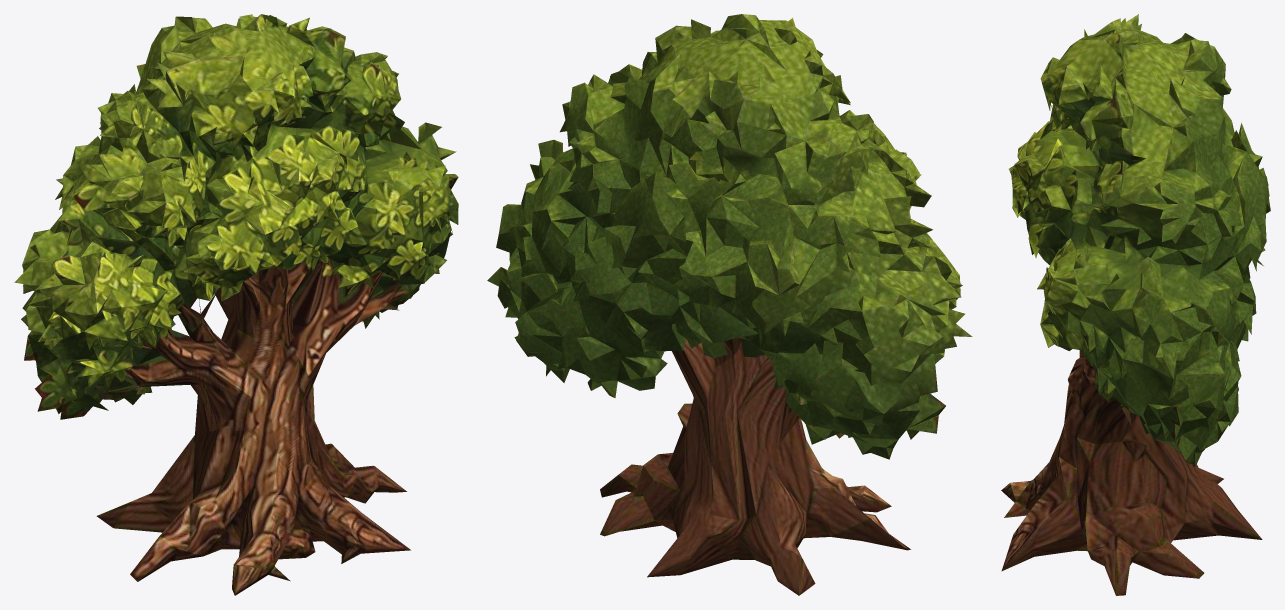
File: tree_village.glb
The picture shows the model from 3 angles, left to right: view 1: azimuth 30°, elevation 25°; view 2: azimuth 150°, elevation 25°; view 3: azimuth 270°, elevation 25°; orthographic projection. The views are drawn at different scales.
Parts seen in each view (by area): view 1: tree_village_oak; view 2: tree_village_oak; view 3: tree_village_oak.
Boxes of the visible parts, x1,y1,x2,y2 form: tree_village_oak: (14, 14, 458, 595); tree_village_oak: (487, 14, 972, 595); tree_village_oak: (1001, 14, 1270, 595).
Bounding box in the file's own units: 10.95 × 12 × 5.89.
Materials: 1 (1 with a texture image).
